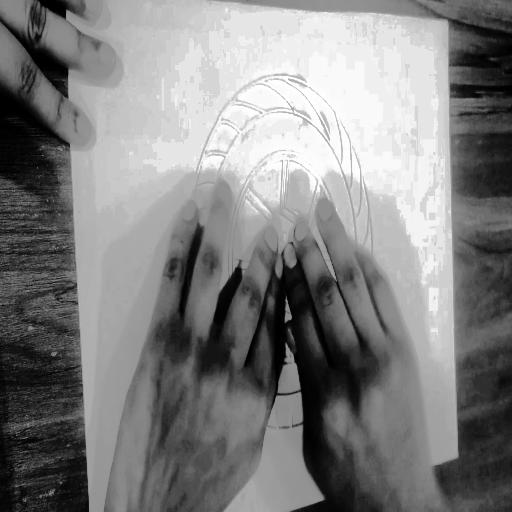bottom_right: (453, 446, 463, 463)
tire: (175, 51, 393, 465)
top_right: (442, 8, 452, 30)
